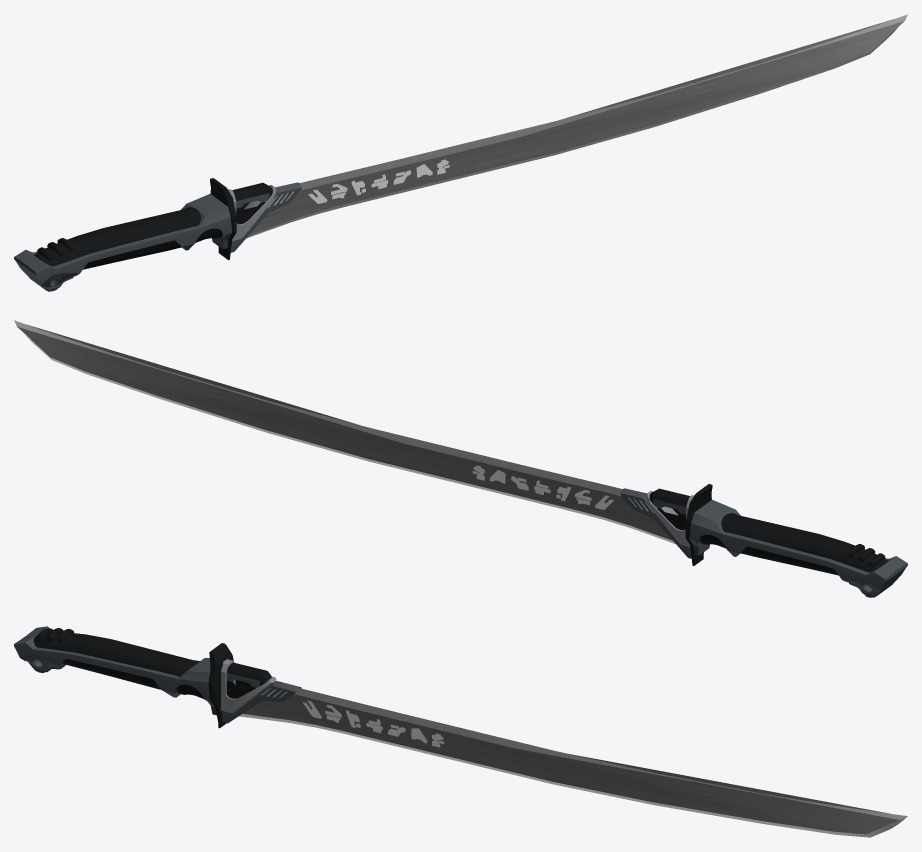
File: uploads_files_3948350_sword.fbx
3 renders of one model, top to bottom at view 1: azimuth 30°, elevation 25°; view 2: azimuth 150°, elevation 25°; view 3: azimuth 330°, elevation 25°, orthographic.
Parts seen in each view (by area): view 1: katana; view 2: katana; view 3: katana.
Boxes of the visible parts, <box> form: katana: <box>14,14,907,291</box>; katana: <box>14,320,907,597</box>; katana: <box>14,626,907,837</box>.
Bounding box in the file's own units: 879 × 72.2 × 39.57.
Materials: 5 (1 with a texture image).
